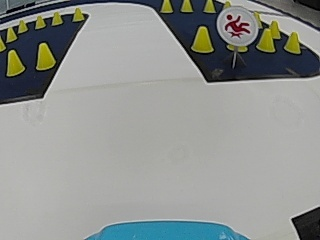cone: (191, 25, 214, 53), (35, 42, 55, 70), (6, 49, 23, 77), (256, 29, 275, 53), (284, 31, 300, 54), (270, 19, 280, 39), (159, 0, 173, 14), (5, 27, 17, 43), (203, 0, 216, 14), (180, 0, 193, 13), (72, 7, 83, 21), (52, 11, 62, 25), (35, 15, 45, 29), (17, 19, 27, 33)
tumble: (221, 10, 254, 42)
